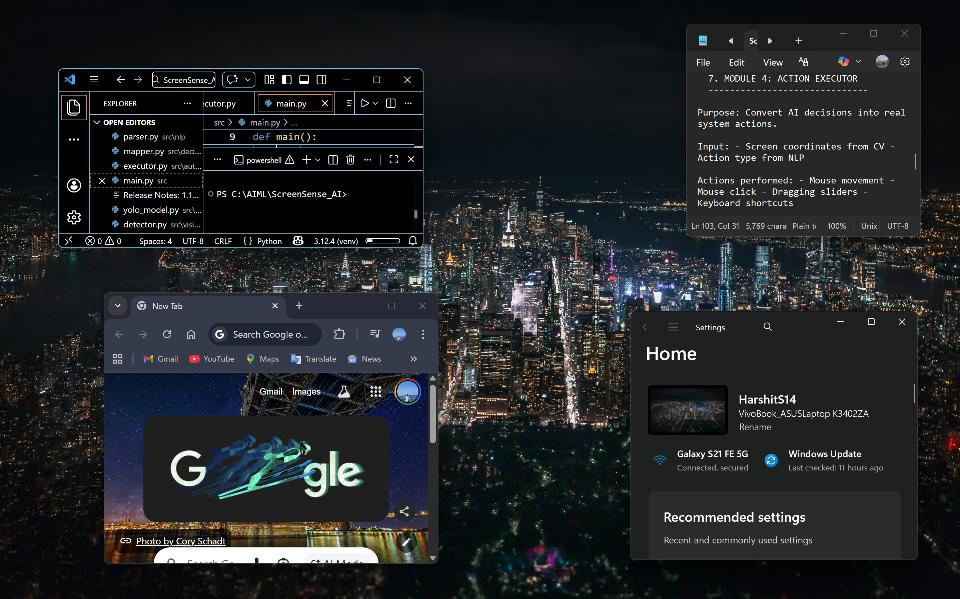close_button: (411, 294, 435, 320), (898, 25, 916, 50), (396, 71, 418, 90), (895, 314, 912, 334)
maximize_button: (865, 23, 888, 49), (382, 295, 404, 319), (861, 312, 885, 333), (365, 71, 387, 90)
minimize_button: (347, 294, 375, 320), (827, 312, 850, 336), (833, 24, 855, 48), (336, 70, 357, 90)
